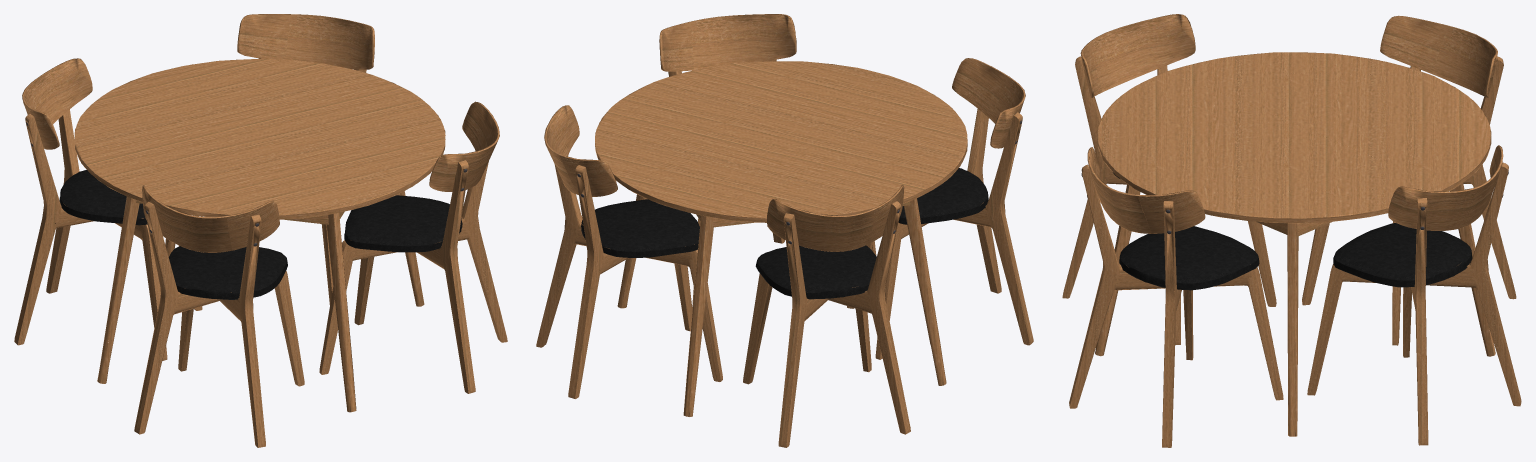
The model's file is dinnign.fbx.
3 views of the same model, side by side, from view 1: azimuth 30°, elevation 25°; view 2: azimuth 150°, elevation 25°; view 3: azimuth 270°, elevation 25° (orthographic). The views are drawn at different scales.
Parts seen in each view (by area): view 1: Cube.009_4, CHAIR.003_3, CHAIR.001_1, CHAIR_0, CHAIR.002_2; view 2: Cube.009_4, CHAIR_0, CHAIR.002_2, CHAIR.003_3, CHAIR.001_1; view 3: Cube.009_4, CHAIR.001_1, CHAIR.002_2, CHAIR.003_3, CHAIR_0.
Part boxes in pixels (x1,y1,x2,y2): Cube.009_4: (74, 59, 445, 412); CHAIR.003_3: (134, 185, 304, 447); CHAIR.001_1: (319, 101, 507, 393); CHAIR_0: (14, 58, 202, 360); CHAIR.002_2: (237, 14, 374, 304); Cube.009_4: (595, 61, 967, 416); CHAIR_0: (743, 185, 910, 447); CHAIR.002_2: (536, 105, 722, 398); CHAIR.003_3: (847, 58, 1033, 359); CHAIR.001_1: (659, 14, 796, 309); Cube.009_4: (1095, 52, 1495, 436); CHAIR.001_1: (1069, 147, 1283, 447); CHAIR.002_2: (1307, 145, 1521, 445); CHAIR.003_3: (1062, 14, 1276, 344); CHAIR_0: (1302, 15, 1516, 345).
Bounding box in the file's own units: 1781 × 1090 × 1790.
3 materials, 2 textured.
